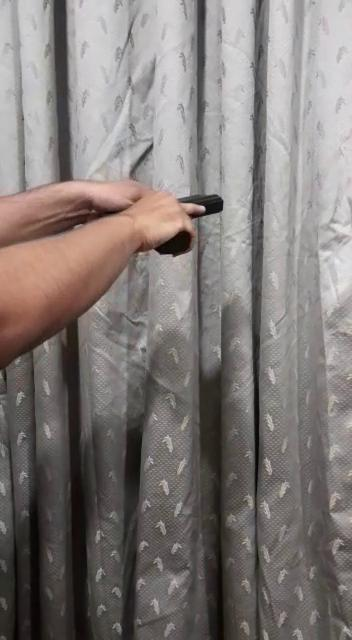weapon: (123, 182, 229, 262)
